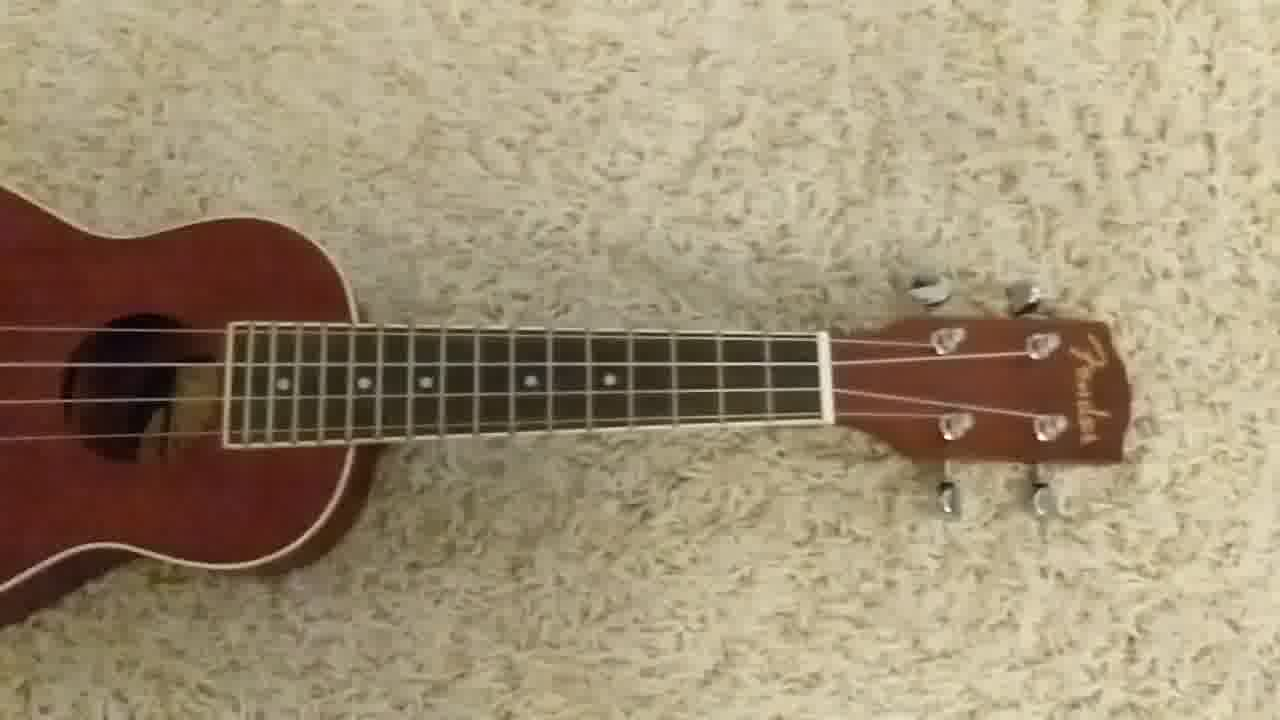Body: (1, 178, 380, 631)
Headstock: (836, 269, 1134, 530)
